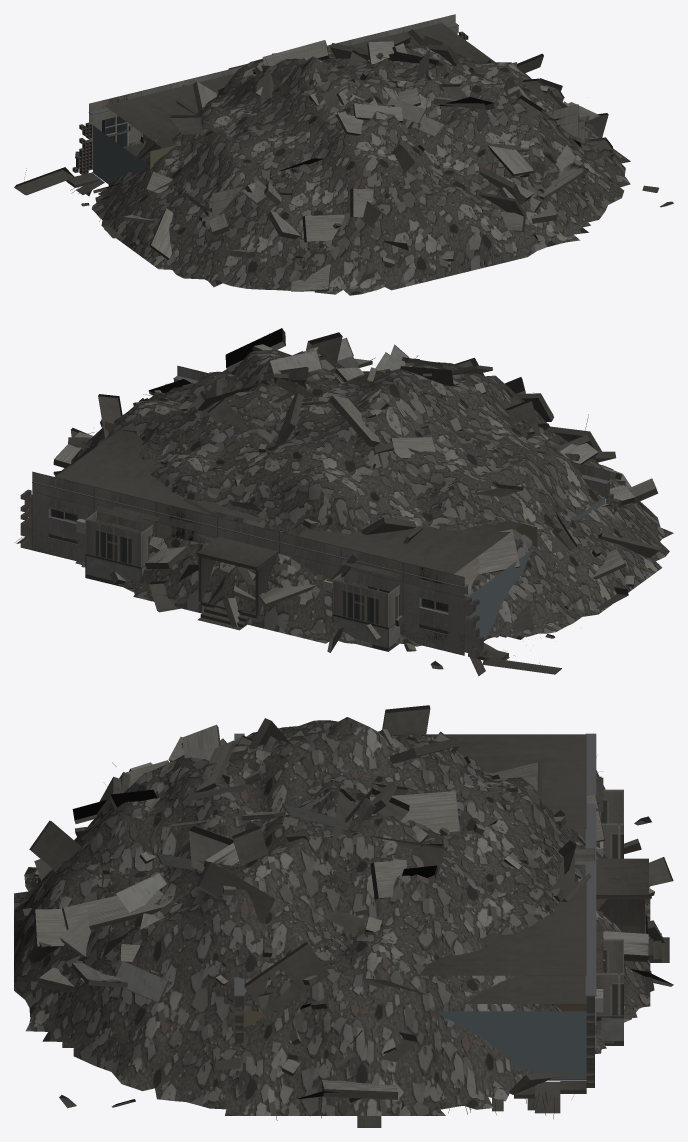
The model's file is bld_ii49.glb.
The picture shows the model from 3 angles, top to bottom: view 1: azimuth 30°, elevation 25°; view 2: azimuth 150°, elevation 25°; view 3: azimuth 270°, elevation 25°; orthographic projection. The views are drawn at different scales.
Parts seen in each view (by area): view 1: rubble_xl, sec_ground_F_s2c, edge_L_F_a, sec_ground_F_s0, sec_ground_F_s2a, sec_ground_Y_s0, sec_floor0_F_s0, sec_ground_F_s2b, edge_L_F_b; view 2: rubble_xl, sec_ground_F_s0, sec_floor0_F_s0, sec_ground_F_s2c, sec_ground_F_s2a, sec_floor1_F_s0, edge_L_F_a, sec_top0_F_s0, sec_ground_F_s2b, sec_floor0_F_s2a, rubble_l, sec_ground_Y_s0 (+4 smaller); view 3: rubble_xl, edge_R_F_a, sec_ground_F_s2c, sec_ground_F_s2b, sec_ground_F_s0, sec_ground_F_s2a, sec_floor1_F_s0, sec_floor0_F_s2a, sec_top0_F_s0, rubble_l, sec_floor0_F_s0, cor_ground_F_s2a.
Part boxes in pixels (x1=…): rubble_xl: x1=14, y1=29, x2=673, y2=295; sec_ground_F_s2c: x1=89, y1=66, x2=243, y2=156; edge_L_F_a: x1=71, y1=122, x2=148, y2=196; sec_ground_F_s0: x1=89, y1=14, x2=516, y2=169; sec_ground_F_s2a: x1=328, y1=14, x2=495, y2=63; sec_ground_Y_s0: x1=150, y1=62, x2=578, y2=218; sec_floor0_F_s0: x1=89, y1=120, x2=142, y2=170; sec_ground_F_s2b: x1=328, y1=26, x2=477, y2=63; edge_L_F_b: x1=66, y1=124, x2=100, y2=221; rubble_xl: x1=53, y1=328, x2=673, y2=674; sec_ground_F_s0: x1=32, y1=422, x2=537, y2=655; sec_floor0_F_s0: x1=32, y1=493, x2=536, y2=655; sec_ground_F_s2c: x1=279, y1=519, x2=521, y2=631; sec_ground_F_s2a: x1=32, y1=428, x2=217, y2=551; sec_floor1_F_s0: x1=85, y1=511, x2=399, y2=627; edge_L_F_a: x1=464, y1=549, x2=540, y2=676; sec_top0_F_s0: x1=32, y1=482, x2=468, y2=596; sec_ground_F_s2b: x1=83, y1=434, x2=215, y2=521; sec_floor0_F_s2a: x1=32, y1=492, x2=215, y2=560; rubble_l: x1=75, y1=561, x2=499, y2=651; sec_ground_Y_s0: x1=105, y1=365, x2=609, y2=548; rubble_xl: x1=14, y1=705, x2=673, y2=1115; edge_R_F_a: x1=438, y1=1011, x2=594, y2=1118; sec_ground_F_s2c: x1=426, y1=734, x2=603, y2=828; sec_ground_F_s2b: x1=428, y1=882, x2=603, y2=978; sec_ground_F_s0: x1=595, y1=858, x2=669, y2=1025; sec_ground_F_s2a: x1=419, y1=891, x2=604, y2=1013; sec_floor1_F_s0: x1=596, y1=789, x2=623, y2=1016; sec_floor0_F_s2a: x1=463, y1=976, x2=586, y2=1011; sec_top0_F_s0: x1=585, y1=733, x2=596, y2=996; rubble_l: x1=441, y1=884, x2=654, y2=1099; sec_floor0_F_s0: x1=595, y1=1016, x2=623, y2=1050; cor_ground_F_s2a: x1=551, y1=848, x2=594, y2=891.
Size of what is drawn, in the model's own units: 30.71 by 9.39 by 23.85.
Materials: 1 (1 with a texture image).
